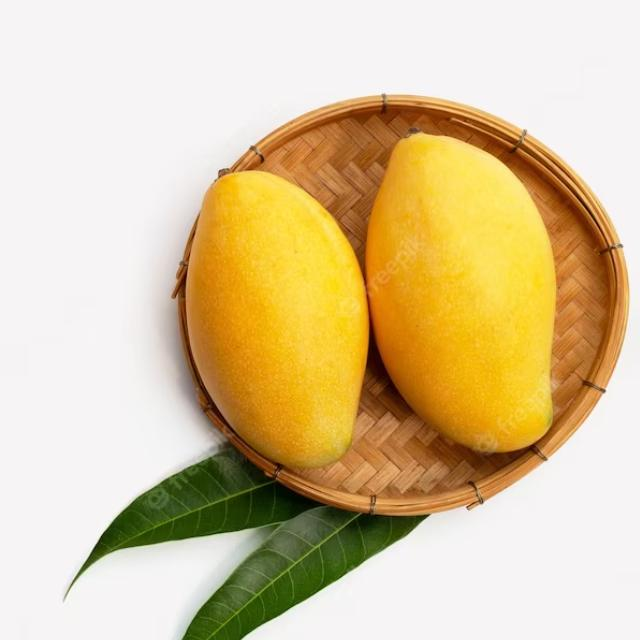mango: (373, 132, 556, 450), (187, 170, 368, 471)
